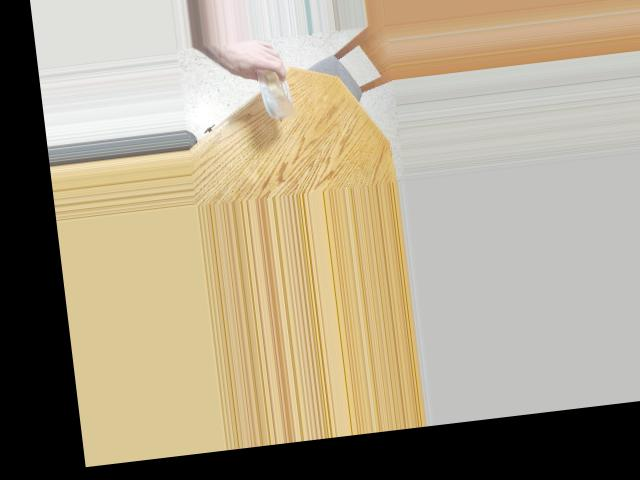cheese: (230, 49, 306, 124)
